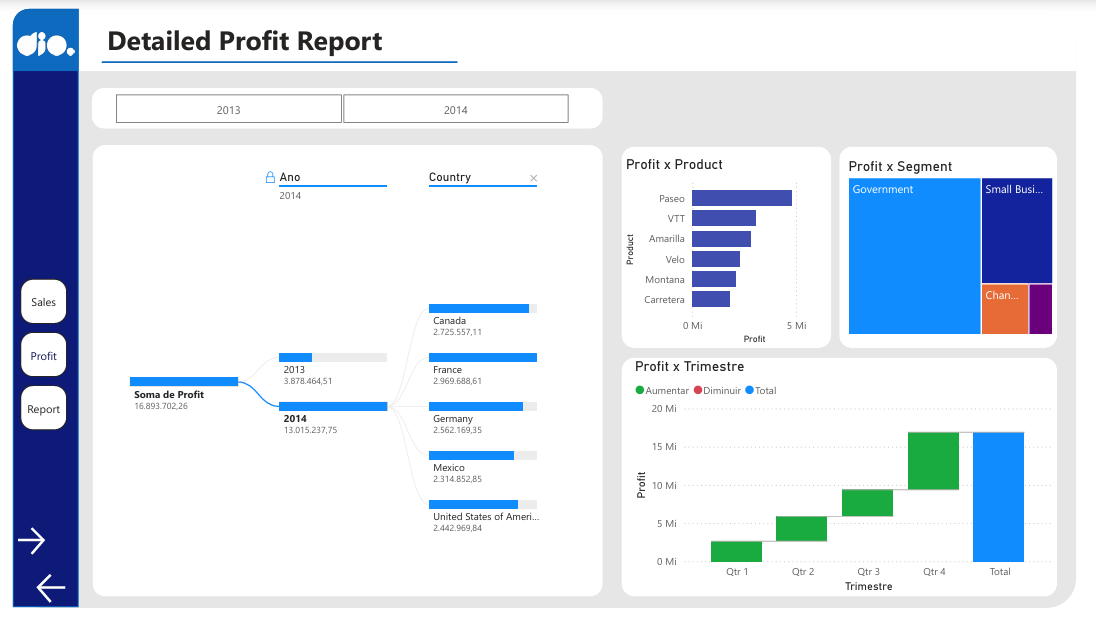

What the dashboard file says about the page in this screenshot:
{"tool":"powerbi","page":{"name":"Profit","canvas":[1280,720],"ordinal":1},"visuals":[{"type":"shape","box":[0,0,1280.2,721.4],"z":0},{"type":"shape","box":[106.6,44.9,428,38],"z":0,"group":"g1"},{"type":"textbox","box":[107.8,8.6,432.6,62.1],"z":1000,"group":"g1"},{"type":"shape","box":[79,0,1201,74.9],"z":1000},{"type":"shape","box":[0,0,79.2,720],"z":2000},{"type":"shape","box":[0,0,79.2,74.9],"z":3000},{"type":"image","title":"Logo_Dio","box":[0,8.6,79.2,66.2],"z":4000},{"type":"group","id":"g1","title":"Title Report","box":[106.6,8.6,434.9,74.9],"z":5000},{"type":"actionButton","box":[24.5,675.4,54.7,44.6],"z":6000},{"type":"shape","box":[95,95,614.9,49],"z":7000},{"type":"shape","box":[96.5,164.2,613.4,542.9],"z":8000},{"type":"shape","box":[733,420.5,524.2,286.6],"z":9000},{"type":"shape","box":[733,165.6,252,241.9],"z":10000},{"type":"decompositionTreeVisual","fields":{"Analyze":["Sum(financials.Profit)"],"ExplainBy":["financials.Date.Variation.Hierarquia de datas.Ano","financials.Country"]},"box":[110.9,177.1,586.1,521.3],"z":11000},{"type":"shape","box":[995,165.6,262.1,241.9],"z":12000},{"type":"waterfallChart","title":"Profit x Trimestre","fields":{"Y":["Sum(financials.Profit)"],"Category":["financials.Date.Variation.Hierarquia de datas.Trimestre"]},"box":[744.5,420.5,512.6,286.6],"z":13000},{"type":"treemap","title":"Profit x Segment","fields":{"Values":["Sum(financials.Profit)"],"Group":["financials.Segment"]},"box":[1000.8,178.6,256.3,218.9],"z":14000},{"type":"slicer","fields":{"Values":["financials.Date.Variation.Hierarquia de datas.Ano"]},"box":[97.9,96.5,594.7,47.5],"z":15000},{"type":"clusteredBarChart","title":"Profit x Product","fields":{"Y":["Sum(financials.Profit)"],"Category":["financials.Product"]},"box":[733,177.1,252,230.4],"z":16000},{"type":"actionButton","title":"Botão - Seta","box":[0,619.2,56.2,43.2],"z":17000},{"type":"pageNavigator","box":[8.6,325.4,56.2,181.4],"z":18000}]}

Visuals, with their boxes on the page's 1280x720 design canvas (x1, y1, x2, y2). These are canvas units, not pixel positions in the 1096x628 screenshot, which may show the page scaled, cropped or inside an application window:
shape: box=[0, 0, 1280, 721]
shape: box=[107, 45, 535, 83]
textbox: box=[108, 9, 540, 71]
shape: box=[79, 0, 1280, 75]
shape: box=[0, 0, 79, 720]
shape: box=[0, 0, 79, 75]
"Logo_Dio" image: box=[0, 9, 79, 75]
"Title Report" group: box=[107, 9, 542, 84]
actionButton: box=[24, 675, 79, 720]
shape: box=[95, 95, 710, 144]
shape: box=[96, 164, 710, 707]
shape: box=[733, 420, 1257, 707]
shape: box=[733, 166, 985, 408]
decompositionTreeVisual - Sum(financials.Profit) x financials.Date.Variation.Hierarquia de datas.Ano: box=[111, 177, 697, 698]
shape: box=[995, 166, 1257, 408]
"Profit x Trimestre" waterfallChart: box=[744, 420, 1257, 707]
"Profit x Segment" treemap: box=[1001, 179, 1257, 398]
slicer - financials.Date.Variation.Hierarquia de datas.Ano: box=[98, 96, 693, 144]
"Profit x Product" clusteredBarChart: box=[733, 177, 985, 408]
"Botão - Seta" actionButton: box=[0, 619, 56, 662]
pageNavigator: box=[9, 325, 65, 507]
